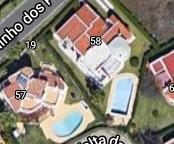pool: (110, 76, 136, 117), (50, 111, 84, 139)
